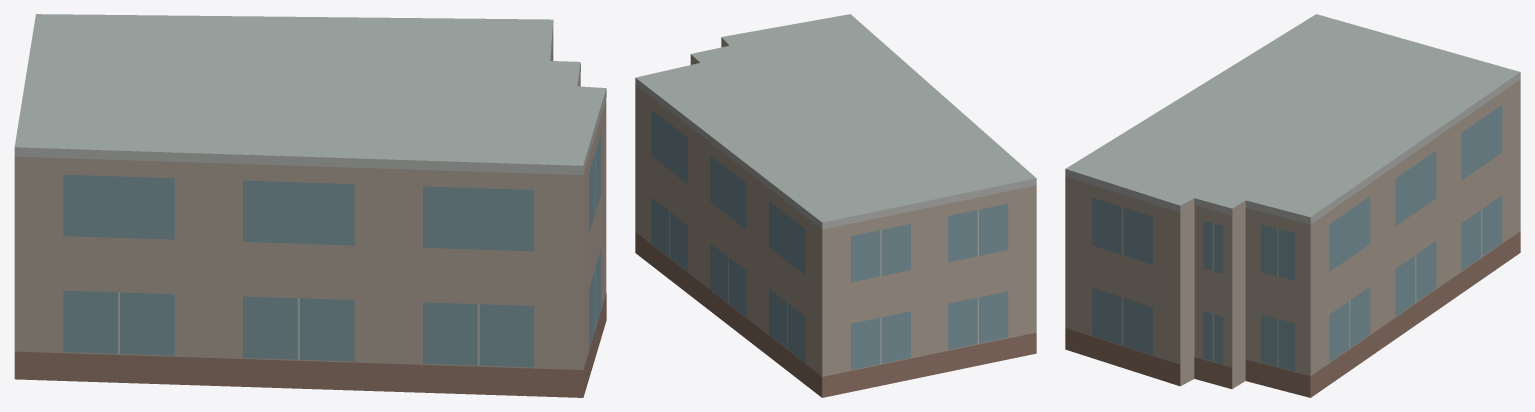
File: survey-upis-32656785.glb
3 renders of one model, left to right at view 1: azimuth 30°, elevation 25°; view 2: azimuth 150°, elevation 25°; view 3: azimuth 270°, elevation 25°, orthographic. The views are drawn at different scales.
Parts seen in each view (by area): view 1: survey-upis-32656785.tmp; view 2: survey-upis-32656785.tmp; view 3: survey-upis-32656785.tmp.
Part boxes in pixels (x1,y1,x2,y2): survey-upis-32656785.tmp: (14,14,606,397); survey-upis-32656785.tmp: (635,14,1036,397); survey-upis-32656785.tmp: (1065,14,1520,397).
Size of the model in its own units: 14.73 by 6.1 by 13.94.
